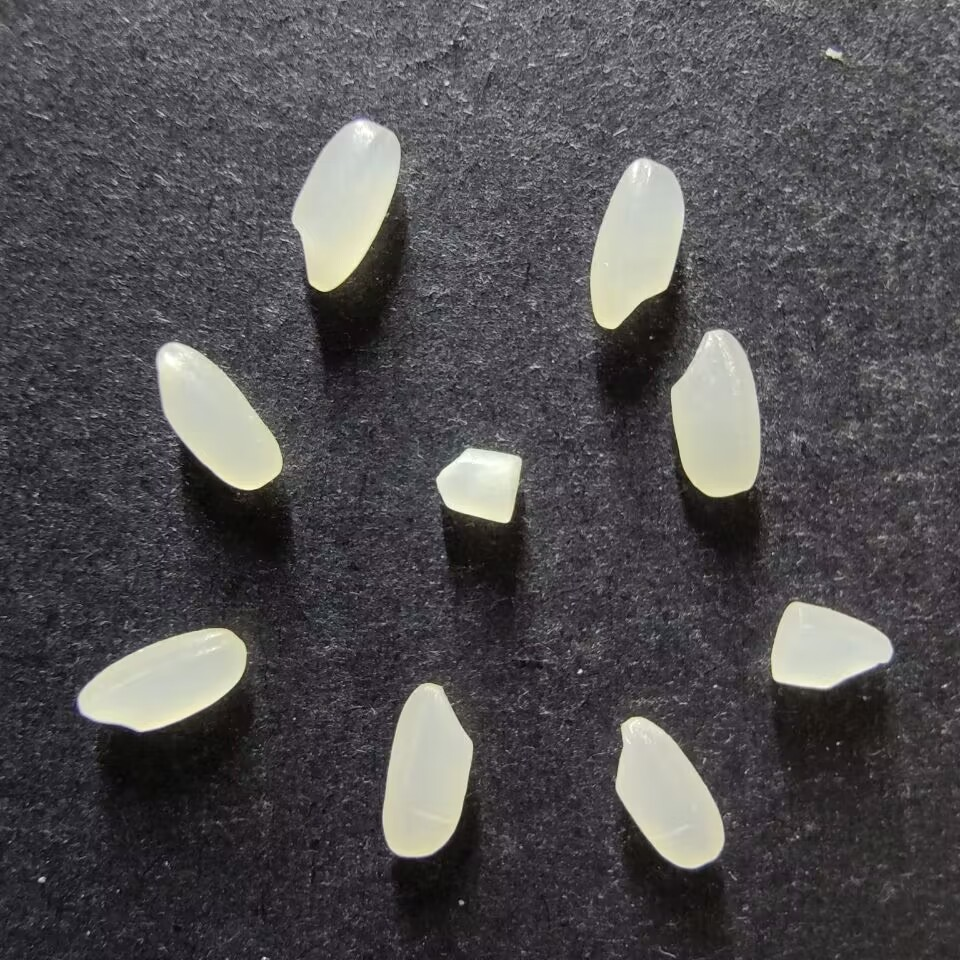broken: (768, 600, 894, 691), (434, 446, 523, 524)
rice: (288, 119, 401, 293), (153, 341, 281, 492), (75, 625, 245, 733), (612, 715, 725, 872), (587, 156, 685, 331), (380, 681, 474, 858), (668, 328, 761, 498)
